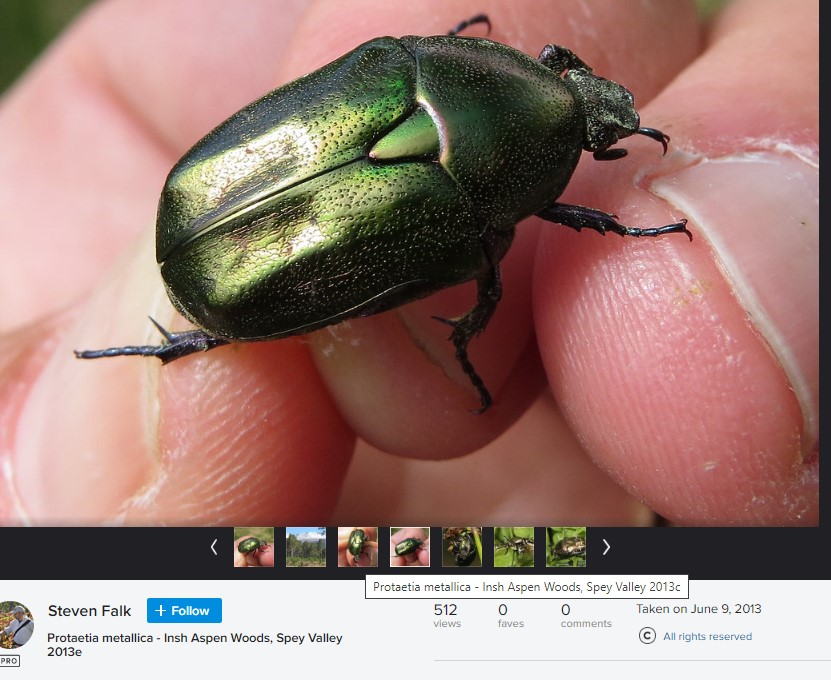Protaetia_metallica: (72, 8, 696, 430)
